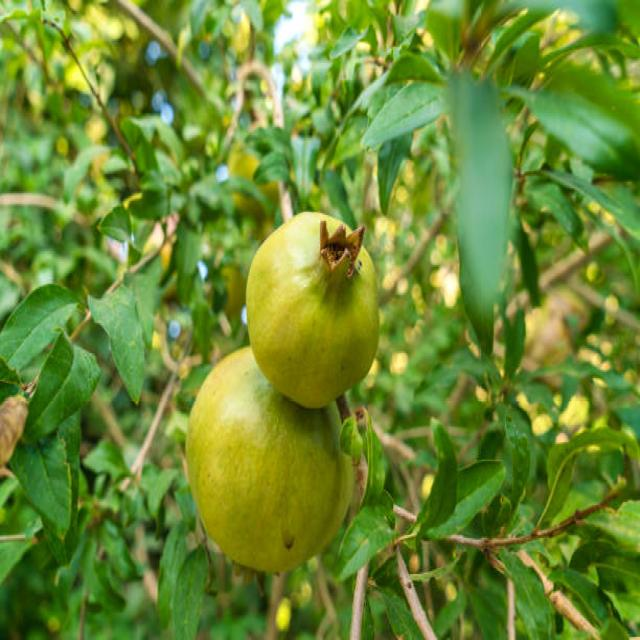Unripe: (246, 206, 380, 406)
